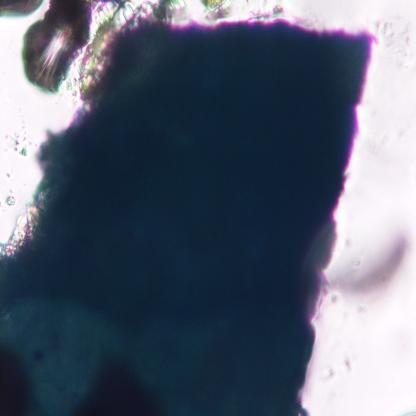Background material: (20, 0, 110, 94), (344, 235, 414, 305), (5, 122, 31, 159), (3, 197, 18, 207)
Diatom: (82, 0, 146, 92), (0, 1, 45, 15)
Fragment: (0, 14, 383, 414)
